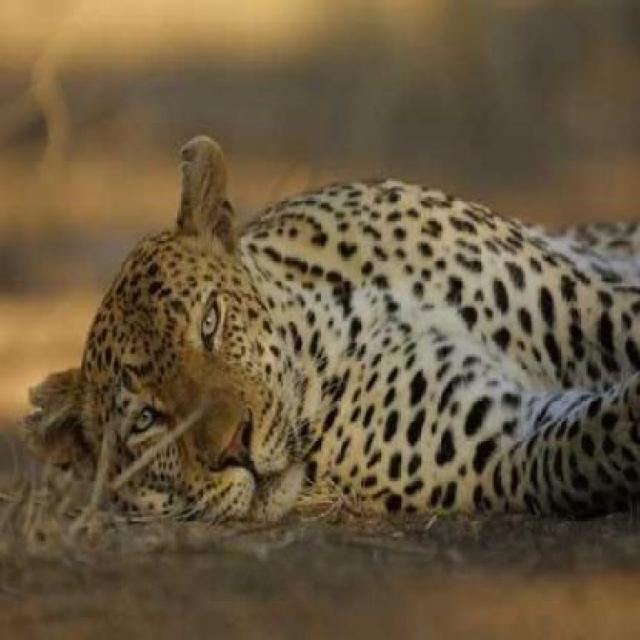Leopard: (67, 142, 639, 548)
